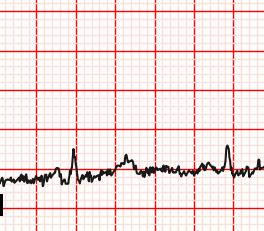Poor R Progression: (219, 138, 235, 178), (65, 144, 80, 186)
